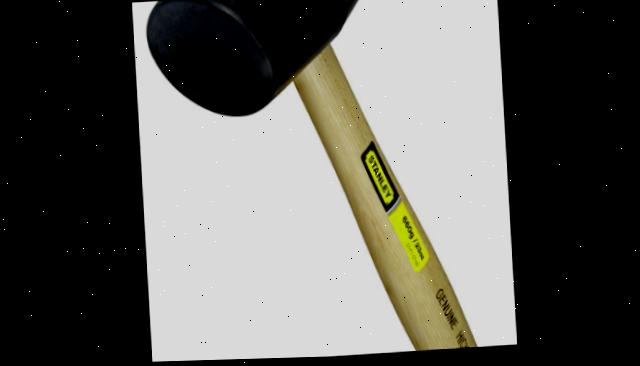hammer: (130, 0, 515, 363)
